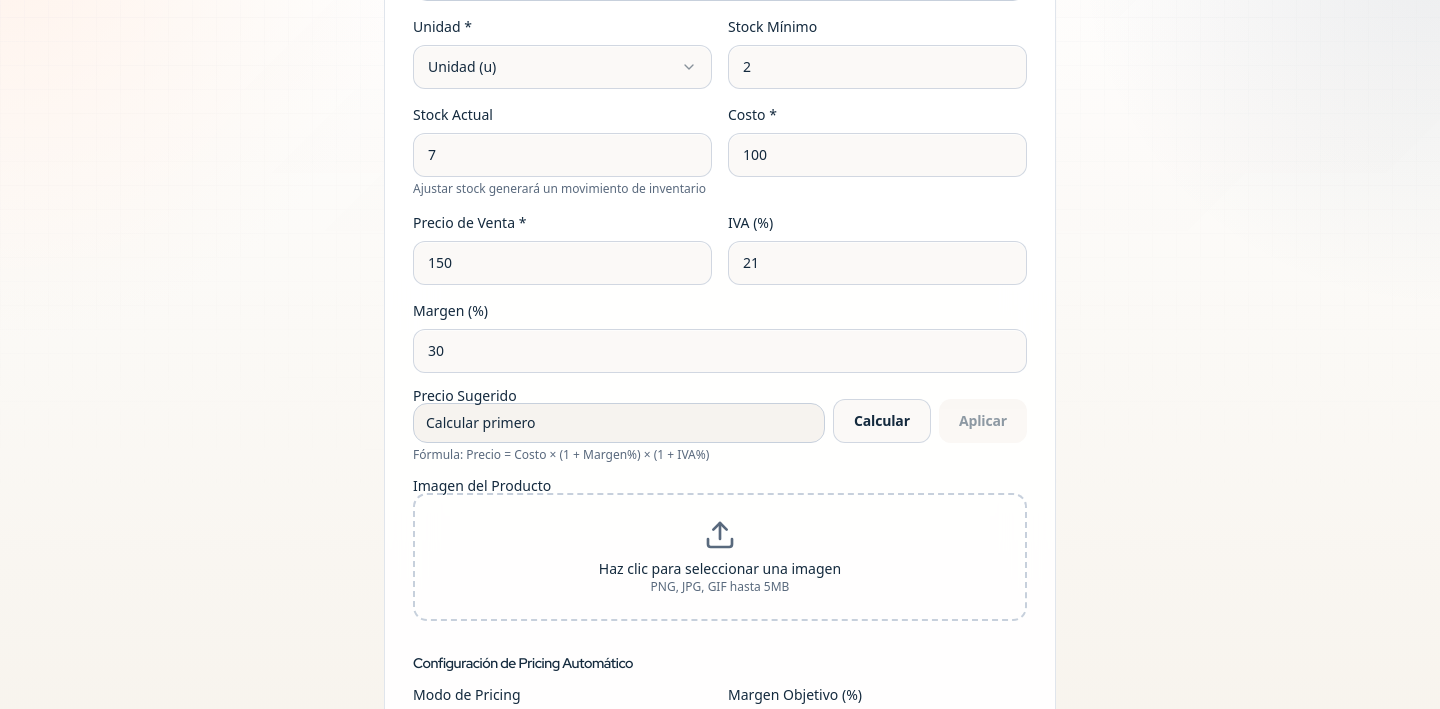
Scenario: dashboard product edit page › shows validation for invalid margin percent input
The width and height of the screenshot is (1440, 709).
(page scrolled)
Replace the text in the number field labelled "Margen (%)" with "100" at (720, 351), box left=413, top=329, right=1027, bottom=373
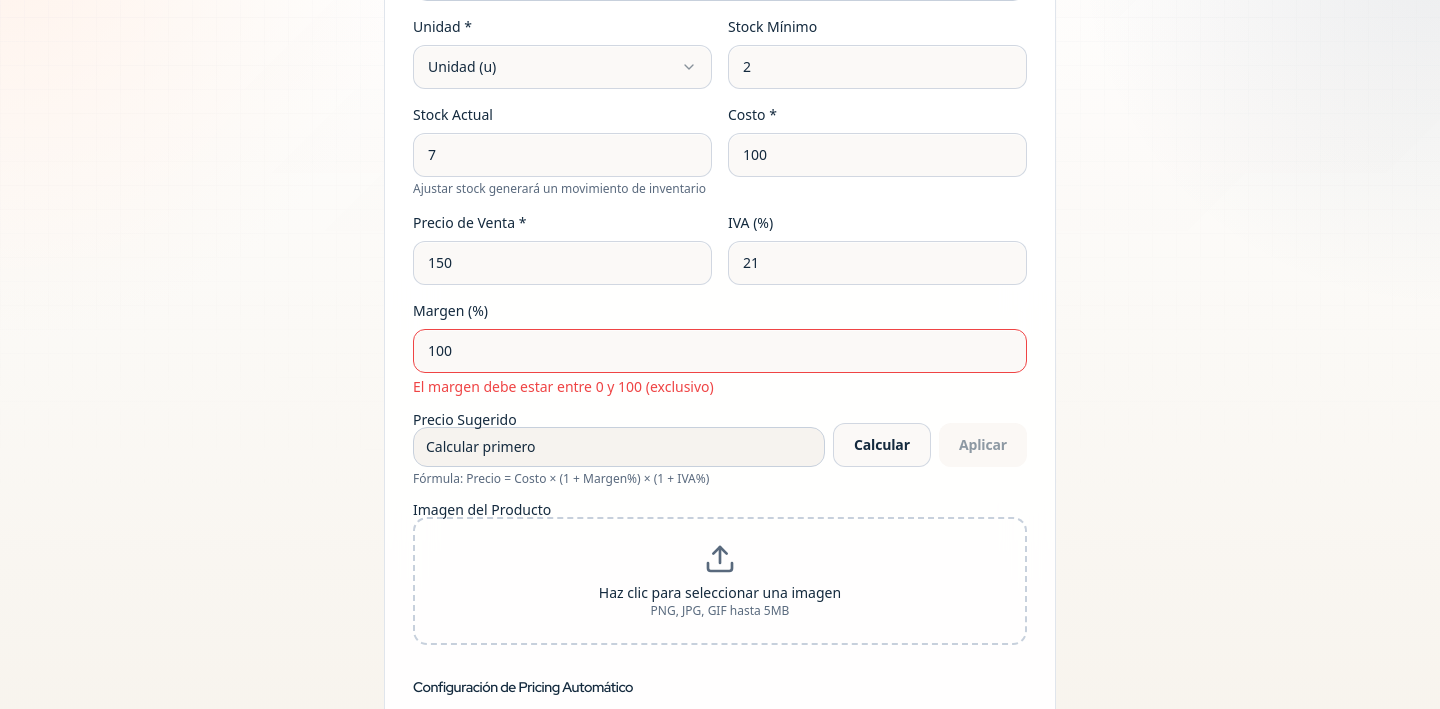
Now the text "El margen debe estar entre 0 y 100 (exclusivo)" is shown, box left=413, top=377, right=714, bottom=396
